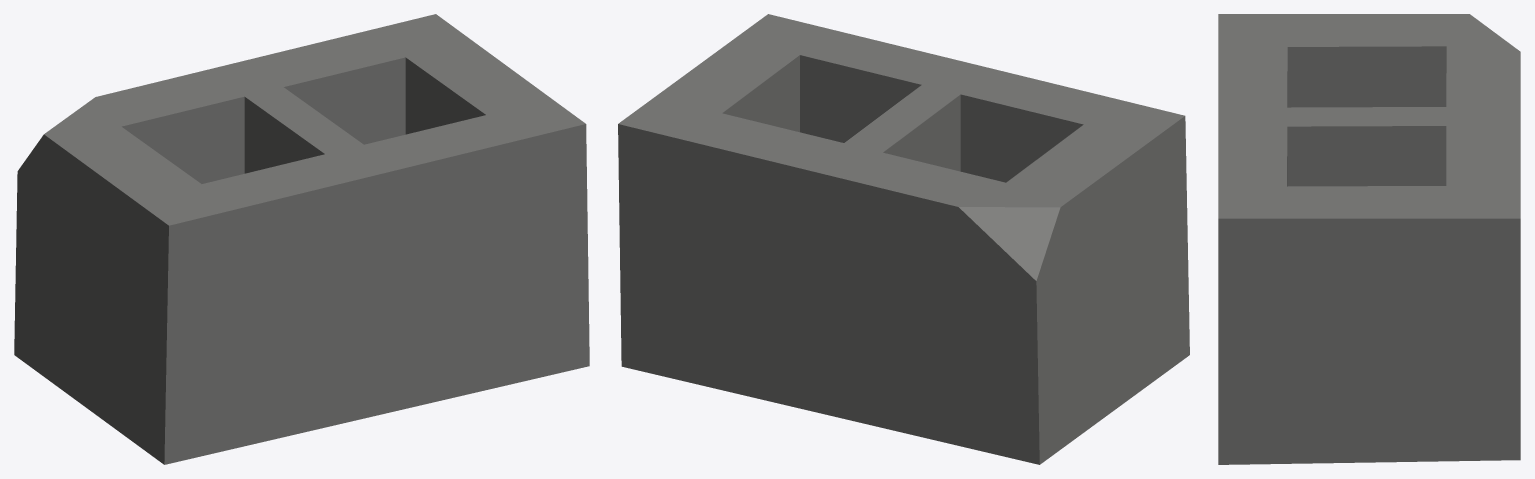
File: SM_Prop_Cinderblock_01.glb
3 views of the same model, side by side, from view 1: azimuth 30°, elevation 25°; view 2: azimuth 150°, elevation 25°; view 3: azimuth 270°, elevation 25° (orthographic).
Visible parts, largest first — view 1: SM_Prop_Cinderblock_01; view 2: SM_Prop_Cinderblock_01; view 3: SM_Prop_Cinderblock_01.
Part boxes in pixels (x1,y1,x2,y2): SM_Prop_Cinderblock_01: (14,14,589,464); SM_Prop_Cinderblock_01: (618,14,1189,464); SM_Prop_Cinderblock_01: (1218,14,1520,464).
Size of the model in its own units: 0.4432 by 0.242 by 0.2711.
Materials: 1 (1 with a texture image).
